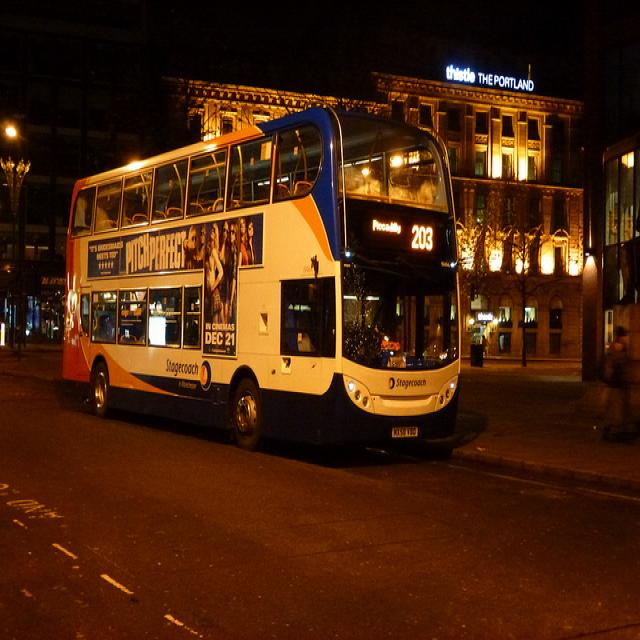Bus: (58, 94, 479, 487)
